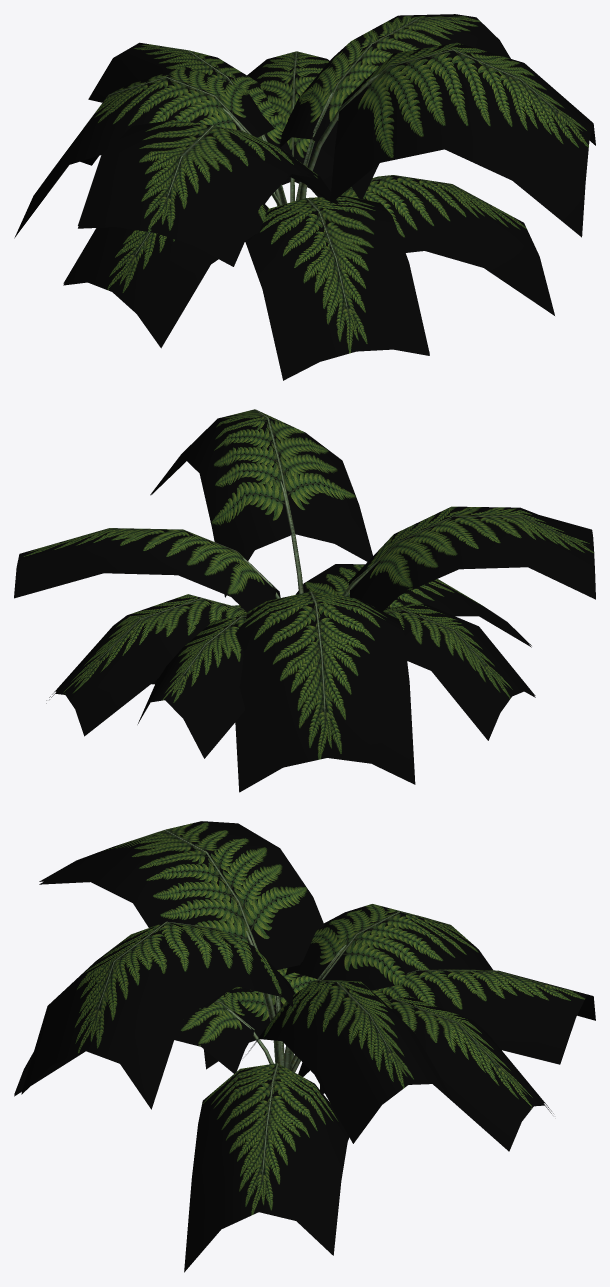
The model's file is lady_fern.glb.
The picture shows the model from 3 angles, top to bottom: view 1: azimuth 30°, elevation 25°; view 2: azimuth 150°, elevation 25°; view 3: azimuth 270°, elevation 25°; orthographic projection. The views are drawn at different scales.
Parts seen in each view (by area): view 1: Fern2; view 2: Fern2; view 3: Fern2.
Part boxes in pixels (bbox=[...]): Fern2: bbox=[14, 14, 595, 380]; Fern2: bbox=[14, 409, 595, 792]; Fern2: bbox=[14, 821, 595, 1272].
Bounding box in the file's own units: 121 × 65.73 × 117.
1 material, 1 textured.
